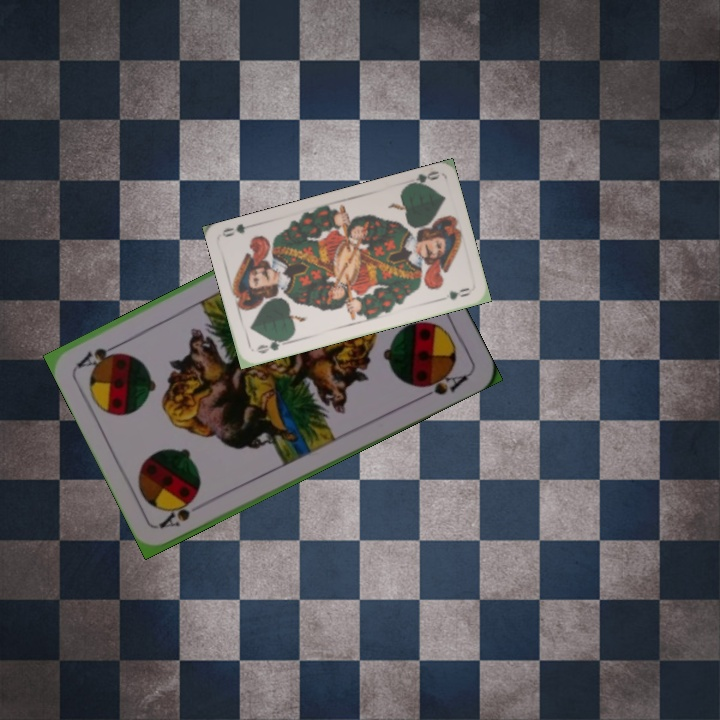GO: (402, 167, 441, 190), (252, 335, 291, 356)
SA: (155, 496, 197, 531)
